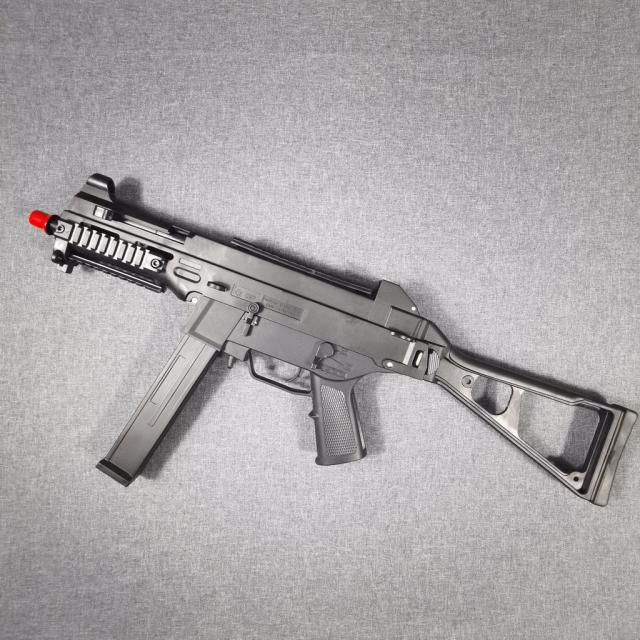Gun: (34, 165, 640, 522)
